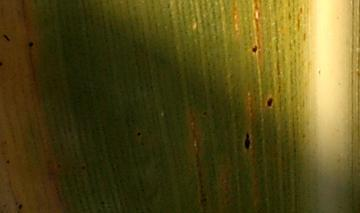tarspot: (242, 131, 252, 151), (264, 96, 275, 109), (251, 45, 259, 54), (200, 110, 208, 119), (27, 39, 34, 49), (16, 203, 24, 211), (3, 34, 11, 41), (79, 164, 86, 172), (135, 130, 142, 137), (5, 158, 10, 166), (55, 162, 61, 168), (1, 60, 3, 68)
